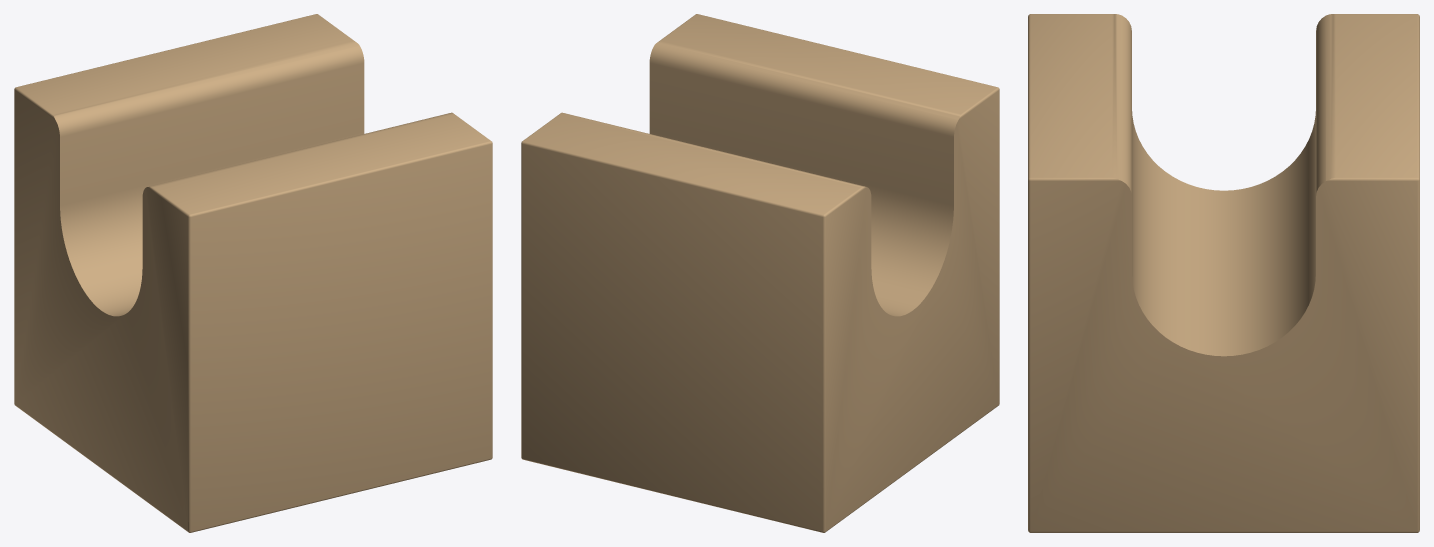
The model's file is blk_straight_l2.glb.
3 views of the same model, side by side, from view 1: azimuth 30°, elevation 25°; view 2: azimuth 150°, elevation 25°; view 3: azimuth 270°, elevation 25° (orthographic). The views are drawn at different scales.
Visible parts, largest first — view 1: blk_straight_l2_lod0; view 2: blk_straight_l2_lod0; view 3: blk_straight_l2_lod0.
Part boxes in pixels (x1=…): blk_straight_l2_lod0: x1=14, y1=14, x2=492, y2=532; blk_straight_l2_lod0: x1=521, y1=14, x2=999, y2=532; blk_straight_l2_lod0: x1=1028, y1=14, x2=1419, y2=532.
Size of what is drawn, in the model's own units: 0.0596 by 0.0596 by 0.0596.
